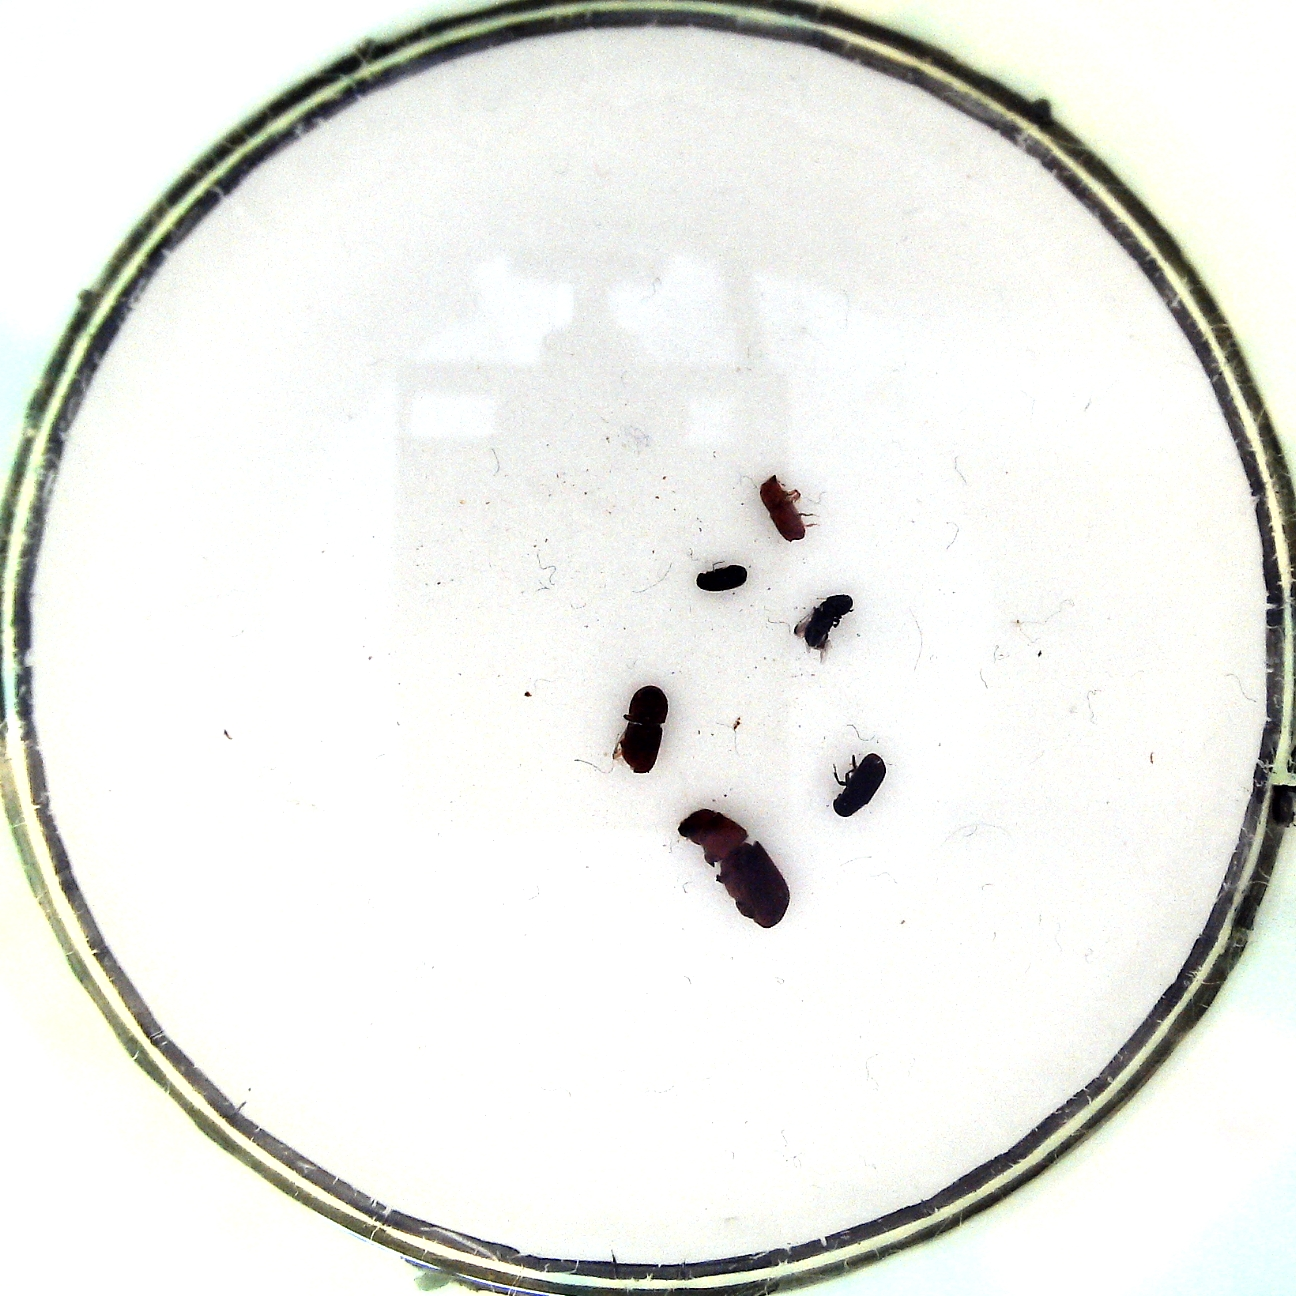Leconte: (676, 808, 790, 932)
Linnaeus: (614, 680, 671, 779)
acuminatus: (754, 468, 814, 545)
armandi: (828, 747, 891, 824)
coleoptera: (789, 595, 855, 657), (694, 563, 752, 601)
